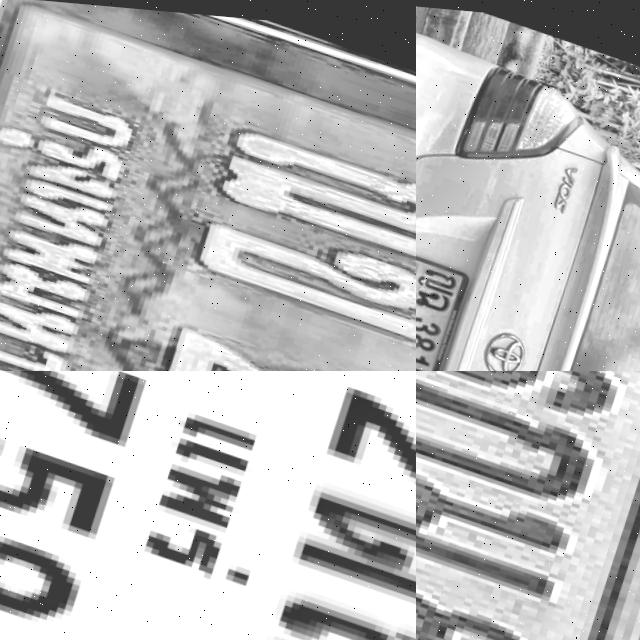license-plate: (0, 0, 416, 371), (0, 371, 416, 640), (416, 371, 640, 640), (416, 237, 477, 371)
